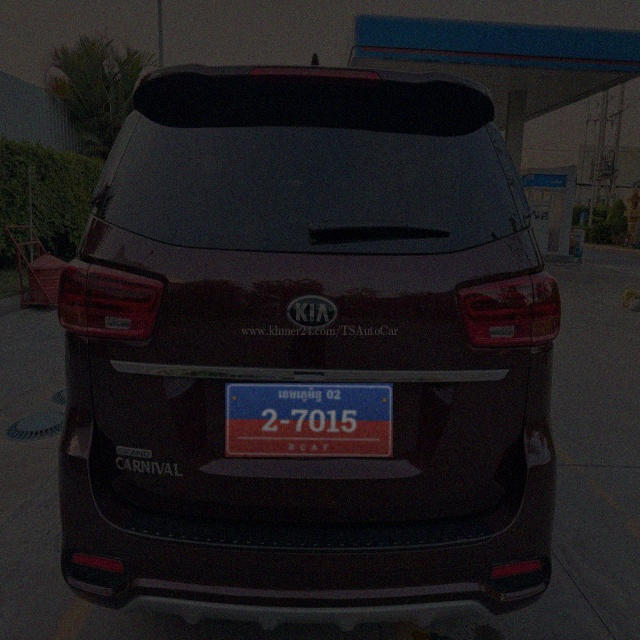Plate Number: (225, 383, 393, 458)
